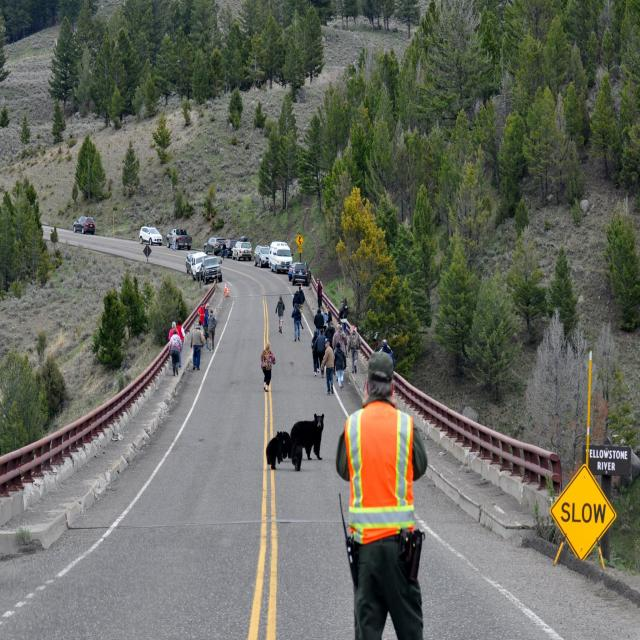body: (332, 346, 432, 640), (332, 321, 347, 382), (320, 337, 335, 396), (260, 341, 276, 393), (346, 325, 362, 375), (332, 342, 347, 391), (314, 328, 328, 378), (190, 322, 204, 371), (168, 328, 182, 376), (206, 307, 218, 354), (378, 338, 396, 369), (274, 294, 286, 336), (176, 317, 185, 368), (338, 298, 349, 339), (291, 303, 302, 342), (311, 330, 320, 377), (202, 303, 210, 350), (324, 320, 336, 350), (313, 308, 325, 336), (197, 302, 206, 331), (168, 320, 180, 340), (298, 286, 306, 314), (320, 306, 327, 334), (317, 278, 323, 310), (292, 290, 302, 309), (316, 278, 322, 309), (324, 305, 332, 326), (171, 229, 177, 251), (221, 240, 227, 261)
